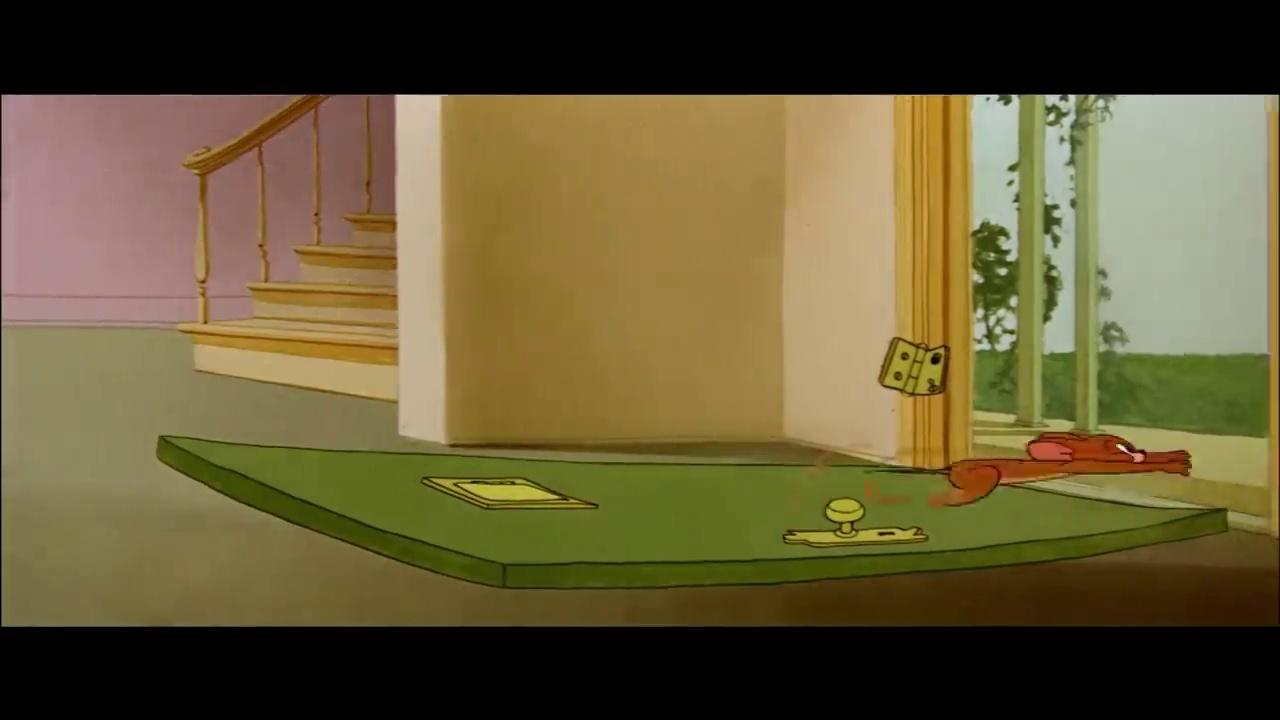Jerry: (924, 419, 1197, 513)
